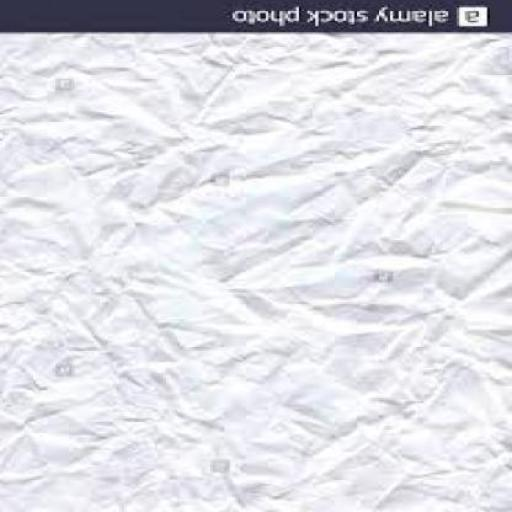paper: (2, 36, 511, 510)
